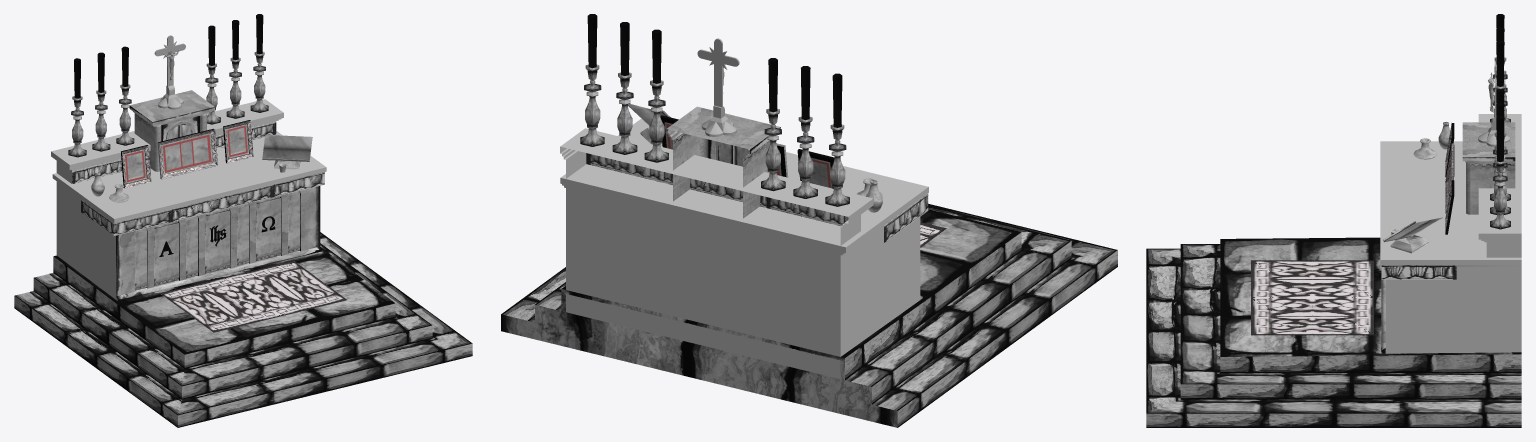
Rendered from Altar.fbx.
The picture shows the model from 3 angles, left to right: view 1: azimuth 30°, elevation 25°; view 2: azimuth 150°, elevation 25°; view 3: azimuth 270°, elevation 25°; orthographic projection. The views are drawn at different scales.
Parts seen in each view (by area): view 1: Altar; view 2: Altar; view 3: Altar.
Boxes of the visible parts, <box> form: Altar: <box>14,14,472,427</box>; Altar: <box>501,14,1117,427</box>; Altar: <box>1146,14,1521,427</box>.
Bounding box in the file's own units: 5.54 × 4.41 × 5.32.
